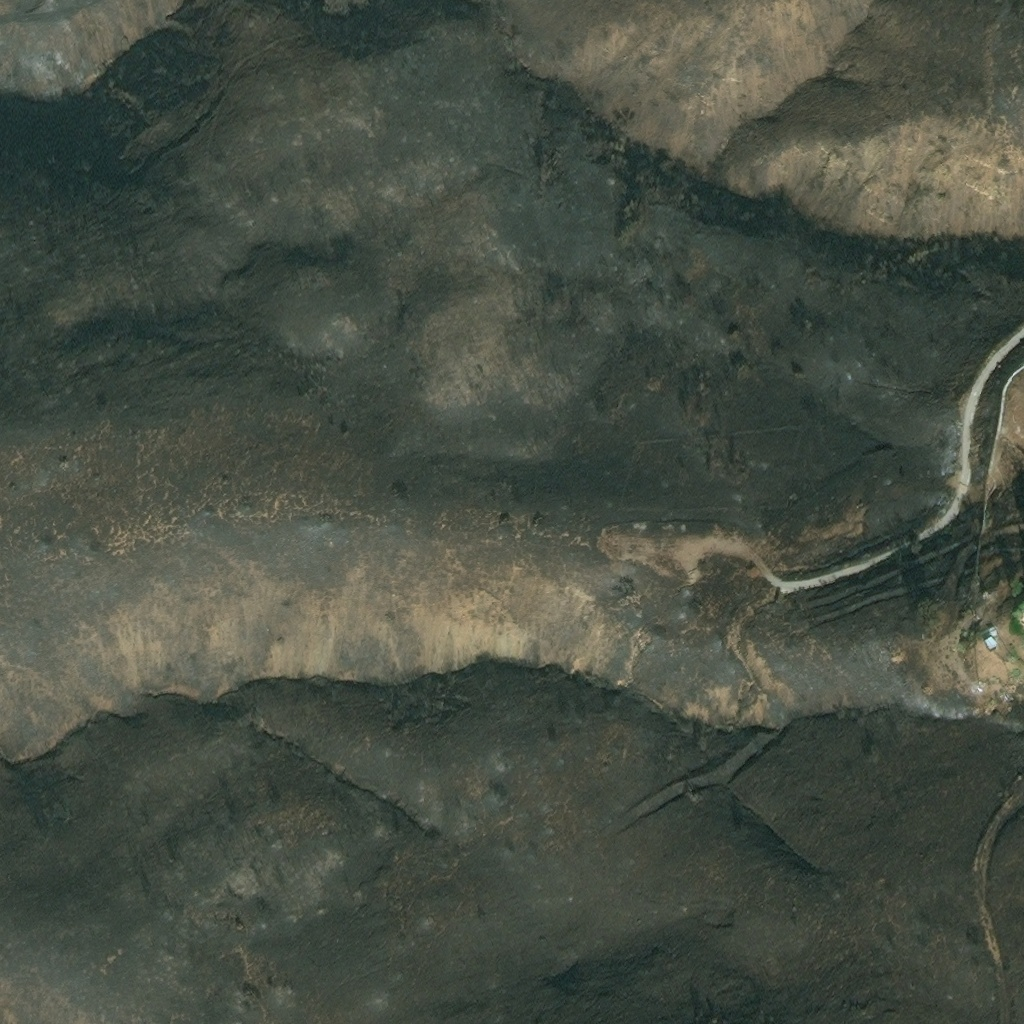0 no-damage: (982, 637, 997, 653), (987, 627, 997, 638)
